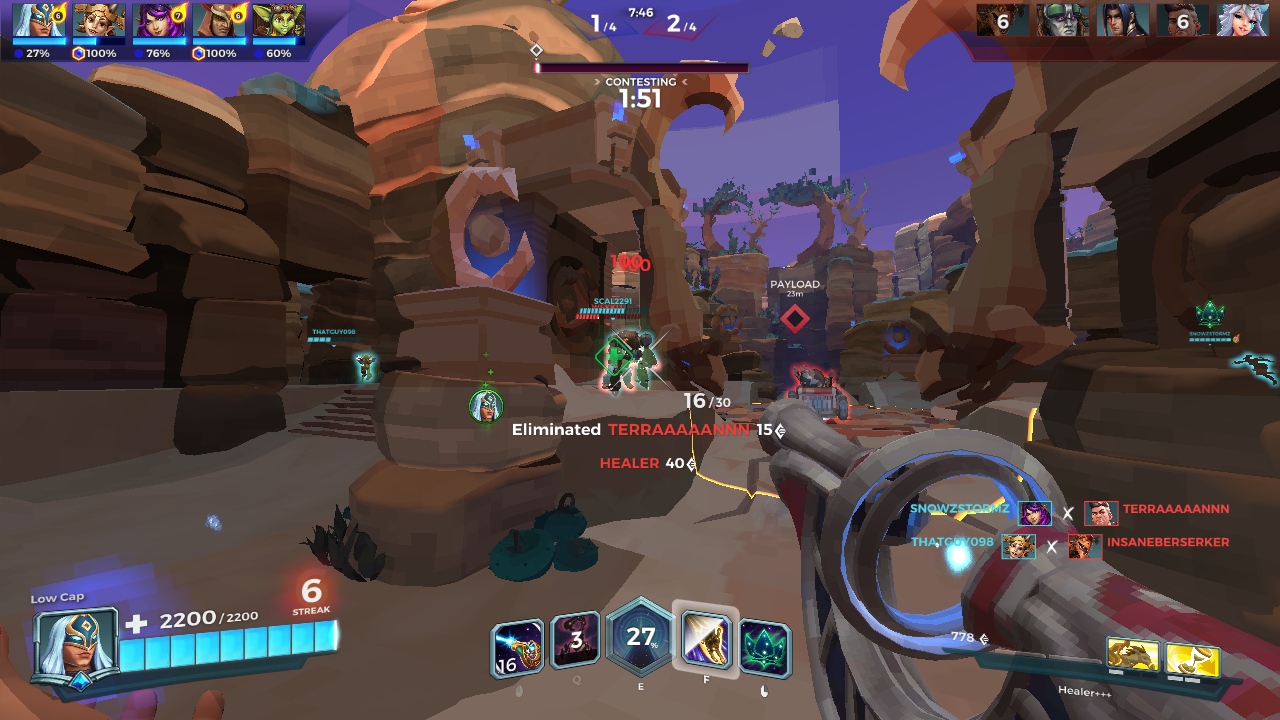model: (598, 336, 656, 393)
